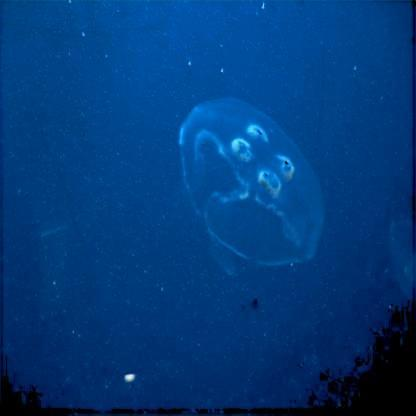Speckle: (177, 98, 328, 278)
